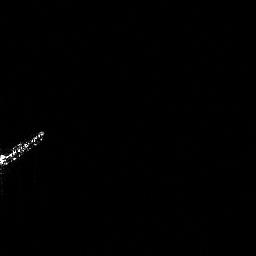ship: (1, 125, 49, 177)
